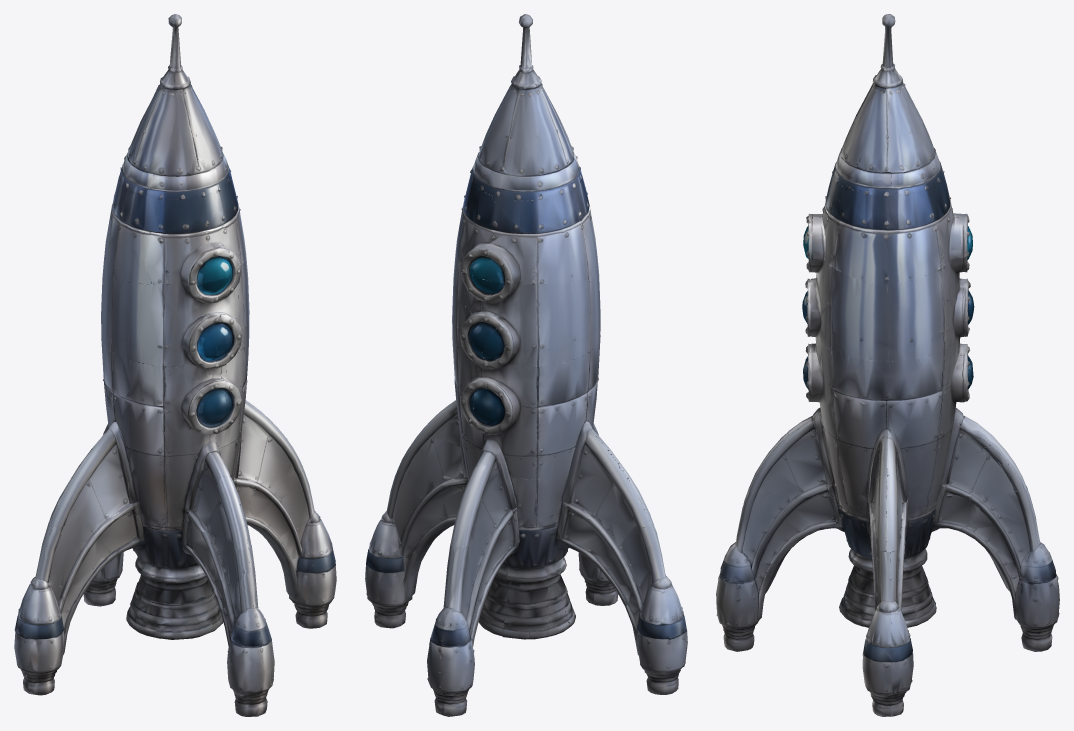
3 renders of one model, left to right at view 1: azimuth 30°, elevation 25°; view 2: azimuth 150°, elevation 25°; view 3: azimuth 270°, elevation 25°, orthographic.
Parts seen in each view (by area): view 1: tripo_node_ba4ccc65-57b2-43c8-a7fa-c5bbe9a56e84; view 2: tripo_node_ba4ccc65-57b2-43c8-a7fa-c5bbe9a56e84; view 3: tripo_node_ba4ccc65-57b2-43c8-a7fa-c5bbe9a56e84.
Part boxes in pixels (<box>): tripo_node_ba4ccc65-57b2-43c8-a7fa-c5bbe9a56e84: <box>14,14,336,716</box>; tripo_node_ba4ccc65-57b2-43c8-a7fa-c5bbe9a56e84: <box>365,14,687,716</box>; tripo_node_ba4ccc65-57b2-43c8-a7fa-c5bbe9a56e84: <box>716,14,1059,716</box>.
Bounding box in the file's own units: 0.5058 × 0.9799 × 0.4832.
Materials: 1 (1 with a texture image).
